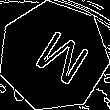M_SW: (20, 23, 87, 90)
